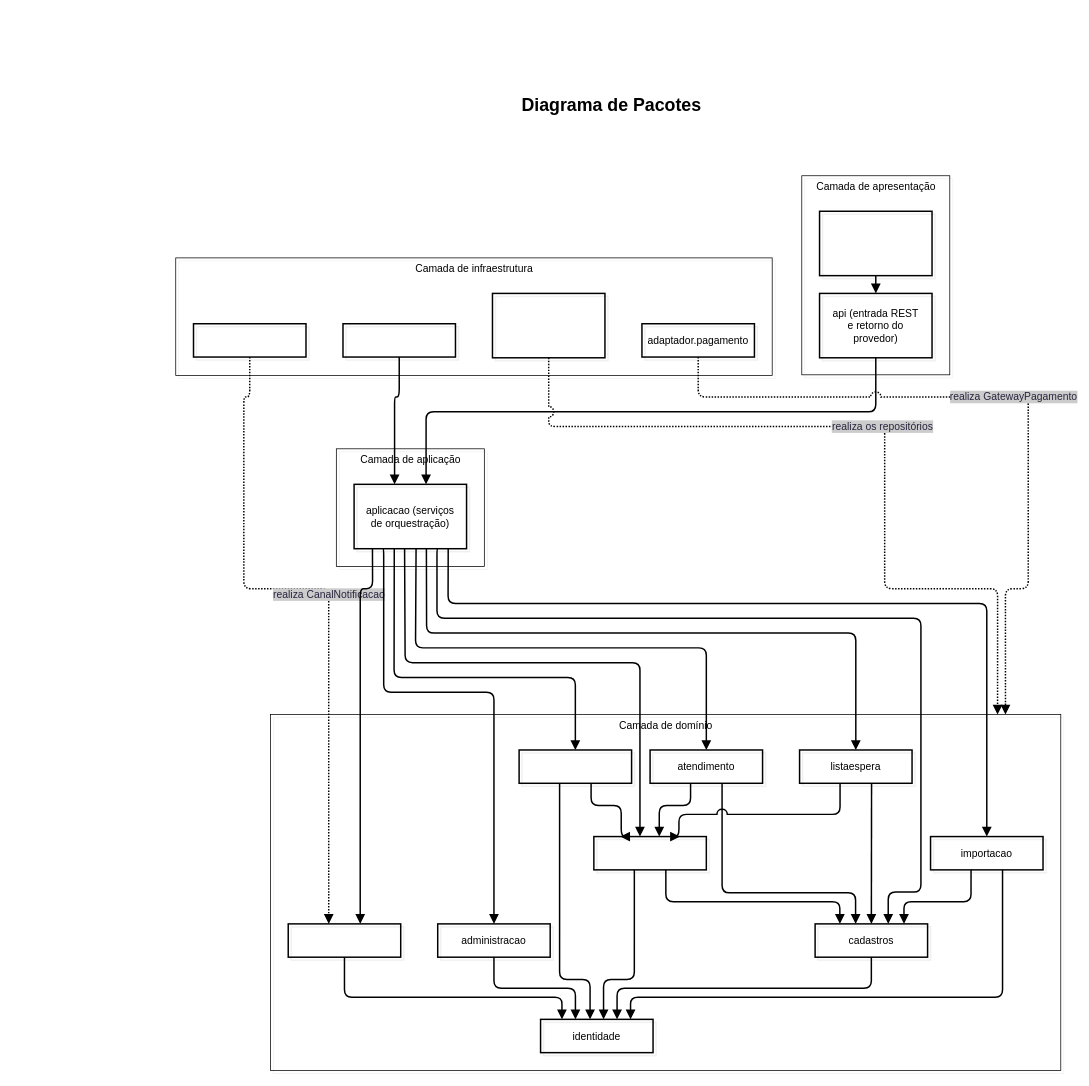
This 1089x1086 diagram has some shape labels left out. The shapes that lost their labels are listed below. From the top down, each one's centre as x and y in pixels, then its label:
(x=876, y=244): web (interface dos quatro perfis)
(x=250, y=341): adaptador.email
(x=400, y=341): agendador
(x=549, y=326): persistencia (repositórios MySQL)
(x=576, y=768): financeiro
(x=651, y=854): agenda
(x=345, y=942): notificacoes
